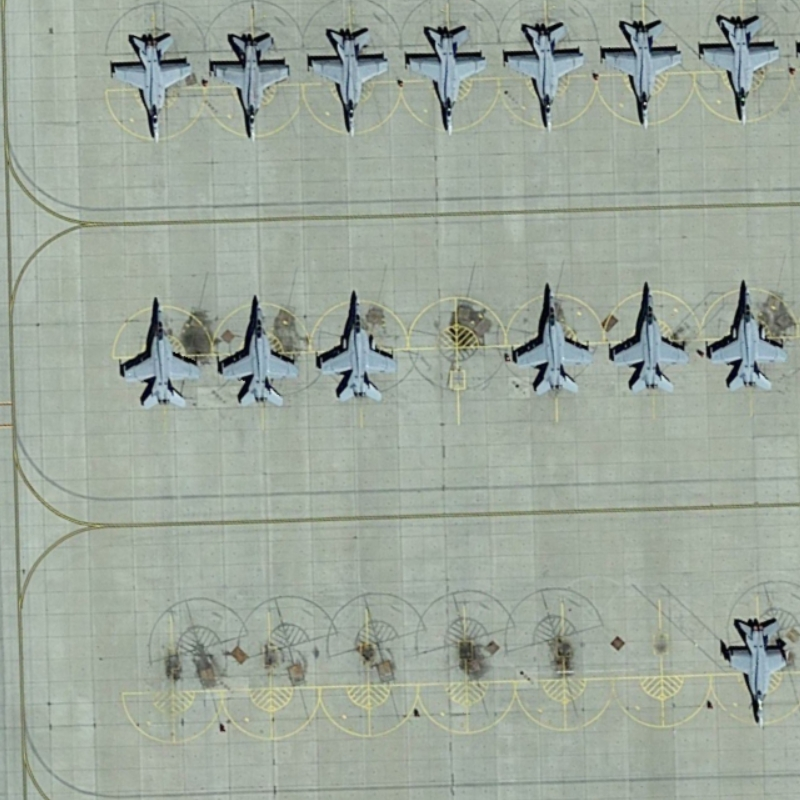A16: (113, 291, 208, 411), (499, 15, 589, 138), (401, 19, 493, 139), (694, 9, 784, 130), (605, 275, 695, 395), (508, 277, 598, 397), (596, 14, 687, 132), (206, 28, 295, 147), (702, 277, 792, 394), (312, 287, 400, 405), (215, 292, 302, 411), (108, 30, 195, 145), (303, 25, 392, 137), (717, 612, 794, 731)
